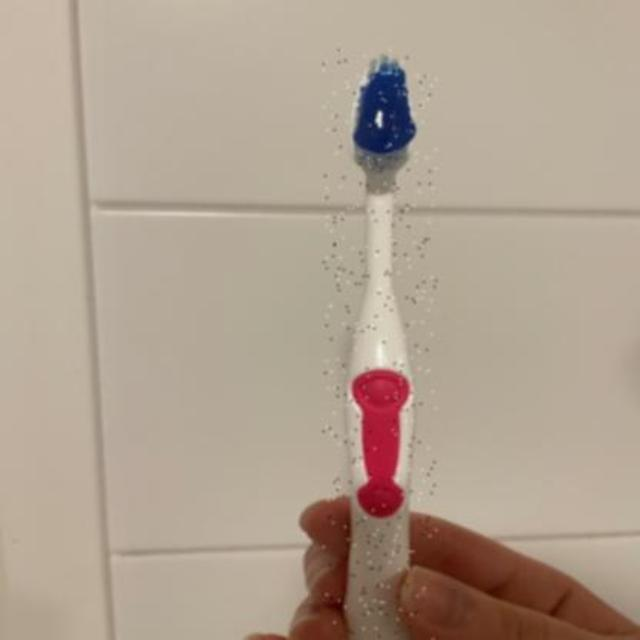toothbrush: (322, 50, 436, 640)
